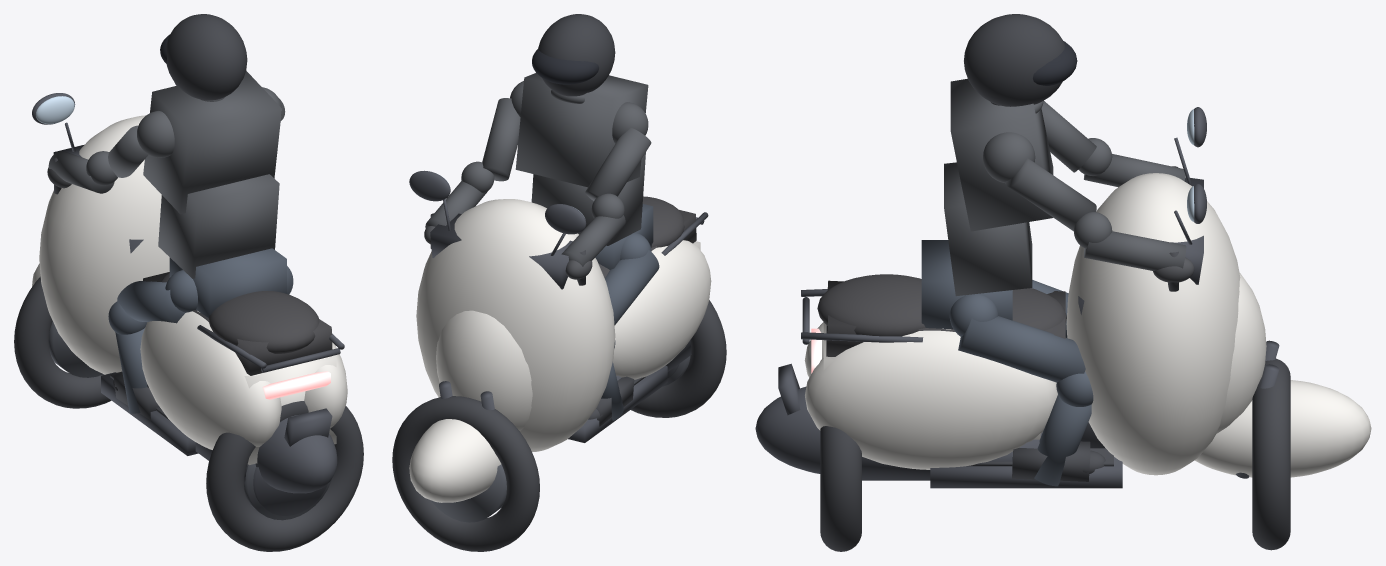
File: scooter_rider.glb
3 views of the same model, side by side, from view 1: azimuth 30°, elevation 25°; view 2: azimuth 150°, elevation 25°; view 3: azimuth 270°, elevation 25° (orthographic). The views are drawn at different scales.
Parts seen in each view (by area): view 1: Front_Apron_Main, Body_Side_L, Rider_Torso_Upper, Rear_Tire, Rider_Torso_Lower, Rider_Helmet, Front_Tire, Seat_Contour_Pillion, Rider_Pelvis, Rear_Fender, Rider_Thigh_-1, Seat_Main_Cushion (+19 smaller); view 2: Front_Apron_Main, Front_Tire, Rider_Torso_Upper, Body_Side_L, Front_Apron_Nose, Front_Fender, Rear_Tire, Rider_Helmet, Rider_Torso_Lower, Rider_UpperArm_-1, Rider_UpperArm_1, Rider_Thigh_-1 (+16 smaller); view 3: Front_Apron_Main, Body_Side_R, Rider_Torso_Upper, Front_Fender, Rider_Helmet, Rider_Torso_Lower, Front_Tire, Seat_Contour_Pillion, Rider_Thigh_1, Rear_Tire, Front_Apron_Nose, Rear_Fender (+19 smaller).
Boxes of the visible parts, x1=… form: Front_Apron_Main: x1=39, y1=115, x2=169, y2=374; Body_Side_L: x1=140, y1=311, x2=281, y2=449; Rider_Torso_Upper: x1=143, y1=70, x2=281, y2=214; Rear_Tire: x1=206, y1=401, x2=363, y2=551; Rider_Torso_Lower: x1=158, y1=174, x2=279, y2=278; Rider_Helmet: x1=166, y1=14, x2=247, y2=100; Front_Tire: x1=14, y1=276, x2=111, y2=408; Seat_Contour_Pillion: x1=208, y1=291, x2=319, y2=353; Rider_Pelvis: x1=169, y1=248, x2=286, y2=317; Rear_Fender: x1=255, y1=415, x2=337, y2=493; Rider_Thigh_-1: x1=117, y1=281, x2=185, y2=323; Seat_Main_Cushion: x1=143, y1=272, x2=332, y2=375; Front_Apron_Main: x1=416, y1=199, x2=615, y2=452; Front_Tire: x1=392, y1=396, x2=539, y2=551; Rider_Torso_Upper: x1=515, y1=73, x2=648, y2=187; Body_Side_L: x1=613, y1=240, x2=711, y2=379; Front_Apron_Nose: x1=436, y1=310, x2=532, y2=430; Front_Fender: x1=409, y1=419, x2=501, y2=502; Rear_Tire: x1=631, y1=300, x2=726, y2=417; Rider_Helmet: x1=538, y1=14, x2=615, y2=96; Rider_Torso_Lower: x1=531, y1=152, x2=645, y2=245; Rider_UpperArm_-1: x1=585, y1=128, x2=651, y2=200; Rider_UpperArm_1: x1=482, y1=98, x2=520, y2=181; Rider_Thigh_-1: x1=605, y1=250, x2=659, y2=325; Front_Apron_Main: x1=1066, y1=173, x2=1240, y2=475; Body_Side_R: x1=805, y1=328, x2=1057, y2=469; Rider_Torso_Upper: x1=950, y1=78, x2=1053, y2=231; Front_Fender: x1=1194, y1=380, x2=1371, y2=477; Rider_Helmet: x1=964, y1=14, x2=1064, y2=106; Rider_Torso_Lower: x1=944, y1=162, x2=1032, y2=296; Front_Tire: x1=1252, y1=358, x2=1290, y2=550; Seat_Contour_Pillion: x1=817, y1=274, x2=925, y2=336; Rider_Thigh_1: x1=958, y1=316, x2=1085, y2=382; Rear_Tire: x1=820, y1=426, x2=861, y2=551; Front_Apron_Nose: x1=1216, y1=272, x2=1266, y2=433; Rear_Fender: x1=755, y1=386, x2=820, y2=473.
Size of the model in its own units: 0.704 by 1.66 by 1.76.
